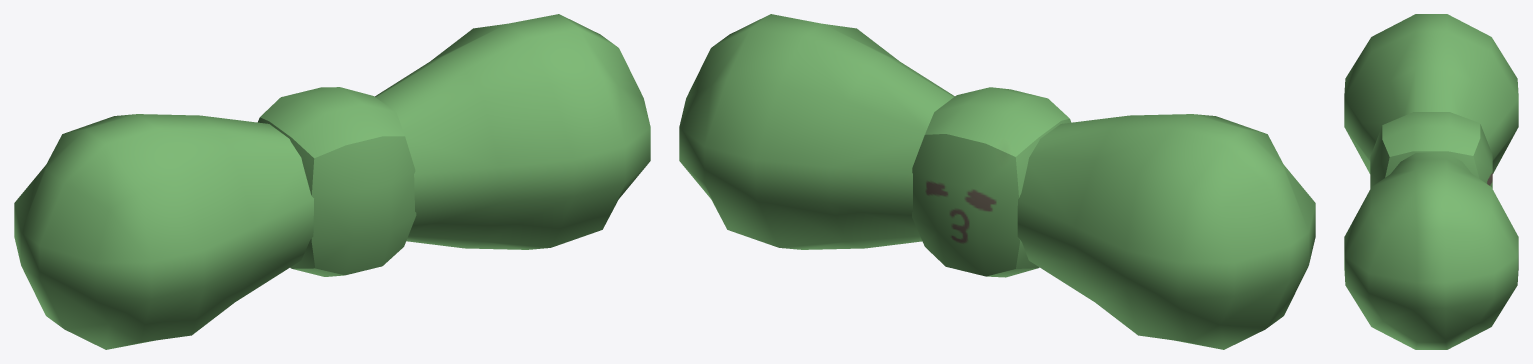
The model's file is Oden_Kobumusubi.gltf.
3 views of the same model, side by side, from view 1: azimuth 30°, elevation 25°; view 2: azimuth 150°, elevation 25°; view 3: azimuth 270°, elevation 25° (orthographic). The views are drawn at different scales.
Visible parts, largest first — view 1: Oden_Kobumusubi; view 2: Oden_Kobumusubi; view 3: Oden_Kobumusubi.
Boxes of the visible parts, box(x1,y1,x2,y2) form: Oden_Kobumusubi: box(14, 14, 650, 349); Oden_Kobumusubi: box(679, 14, 1315, 349); Oden_Kobumusubi: box(1344, 14, 1518, 349).
Size of the model in its own units: 3.24 by 1.08 by 1.05.
1 material, 1 textured.
